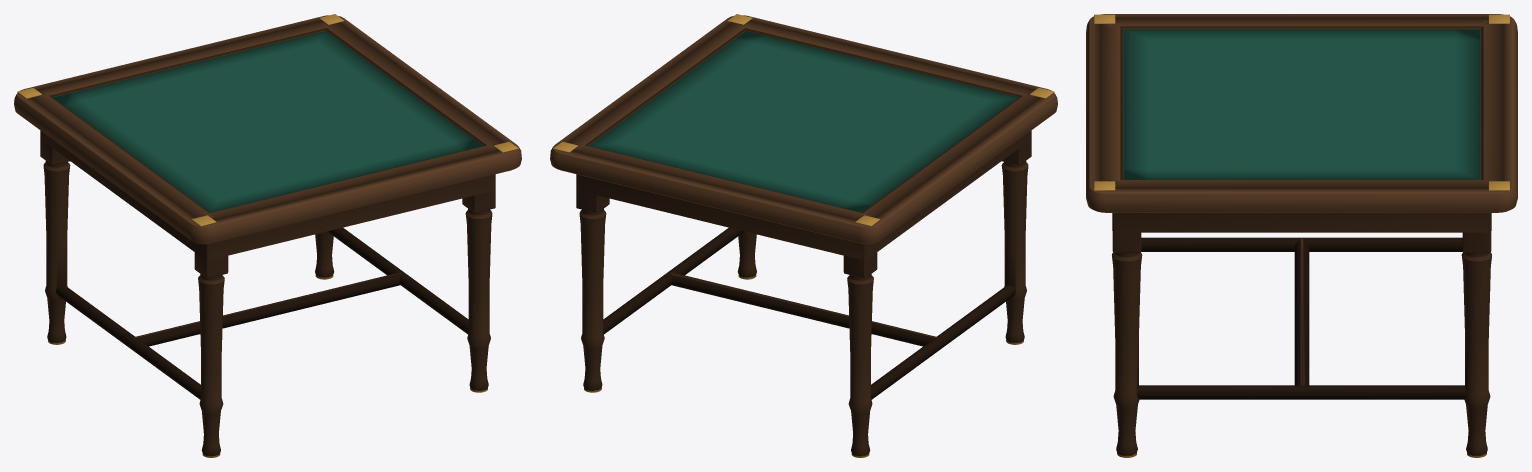
Rendered from table-board.glb.
3 renders of one model, left to right at view 1: azimuth 30°, elevation 25°; view 2: azimuth 150°, elevation 25°; view 3: azimuth 270°, elevation 25°, orthographic. The views are drawn at different scales.
Parts seen in each view (by area): view 1: Frame, Felt, Trim; view 2: Frame, Felt, Trim; view 3: Frame, Felt, Trim.
Part boxes in pixels (x1,y1,x2,y2): Frame: (14, 15, 521, 456); Felt: (53, 31, 482, 212); Trim: (17, 14, 518, 457); Frame: (550, 15, 1057, 456); Felt: (589, 31, 1018, 212); Trim: (553, 14, 1054, 457); Frame: (1086, 14, 1517, 455); Felt: (1123, 29, 1480, 179); Trim: (1094, 14, 1509, 457).
Size of the model in its own units: 1.02 by 0.7261 by 1.02.
3 materials, 1 textured.
